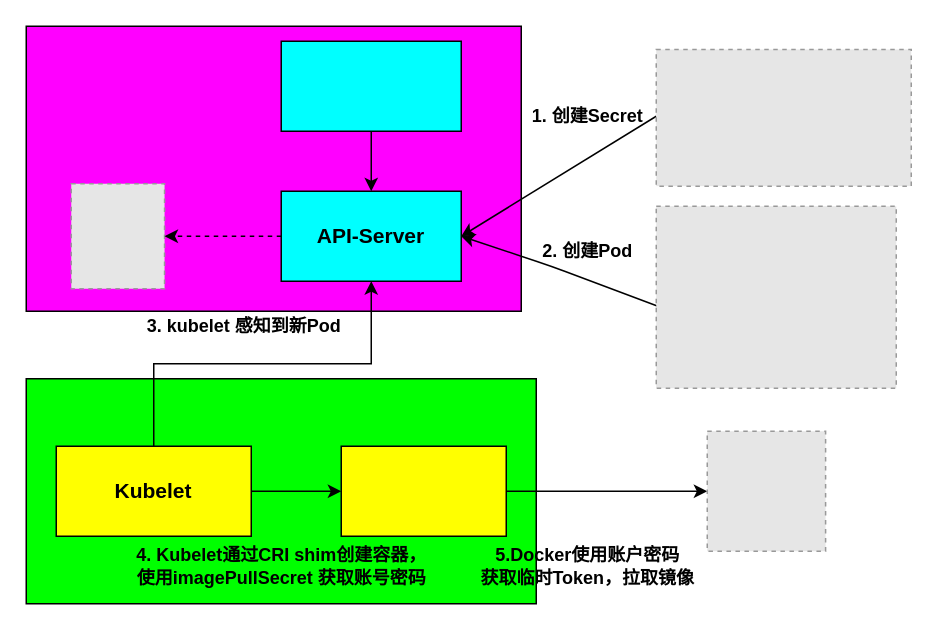
Image size: 938x630. Some labels were removed from this diagram. Grey dashed boxes stand in for pictures. Here are the shapes that lost their labels. From the top down, the centre of each, then its label:
the point at 370,85: Controllers
the point at 423,490: Docker
